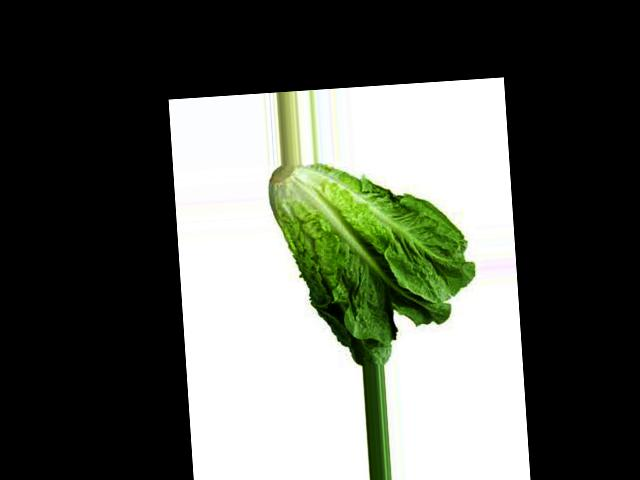lettuce: (303, 159, 403, 273)
